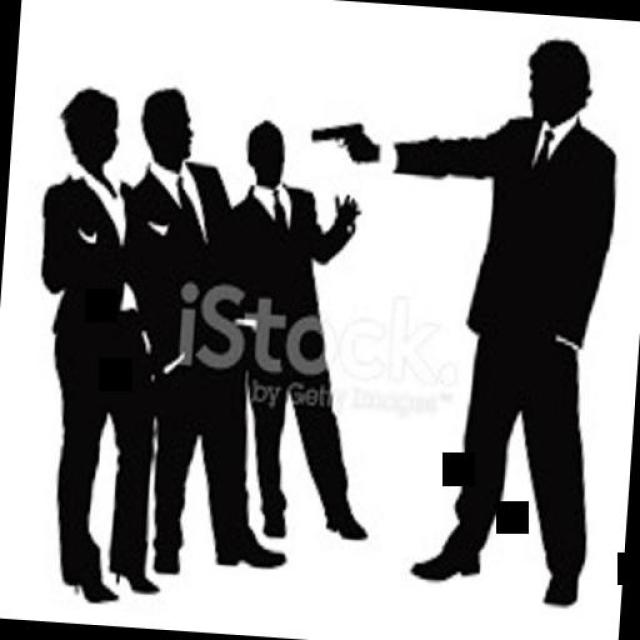gun: (306, 94, 384, 176)
